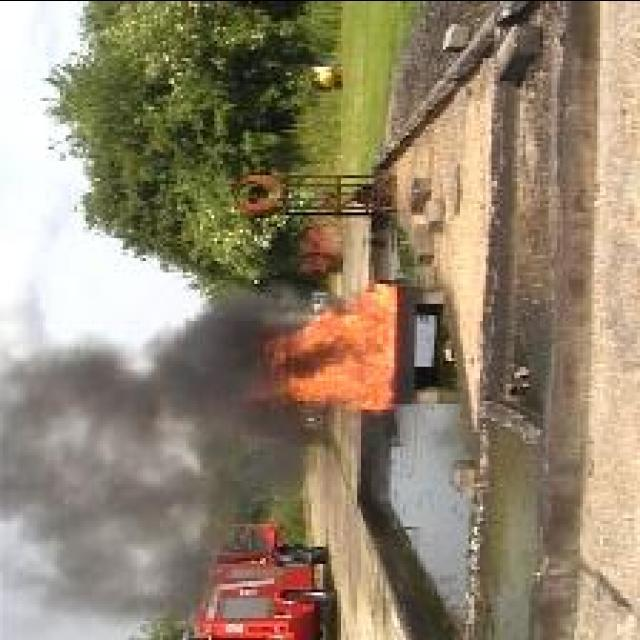Fire: (247, 282, 399, 409)
